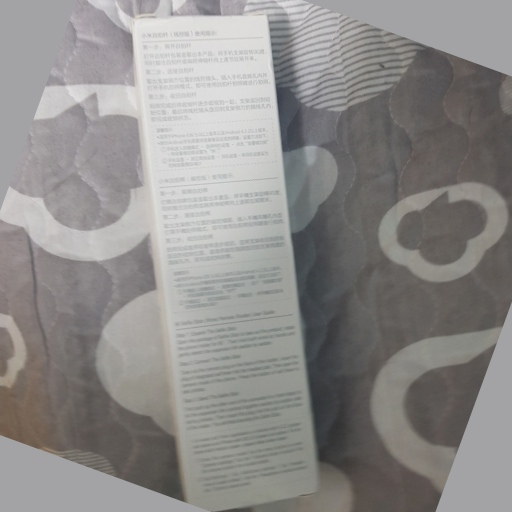Paper_0: (124, 8, 333, 511)
